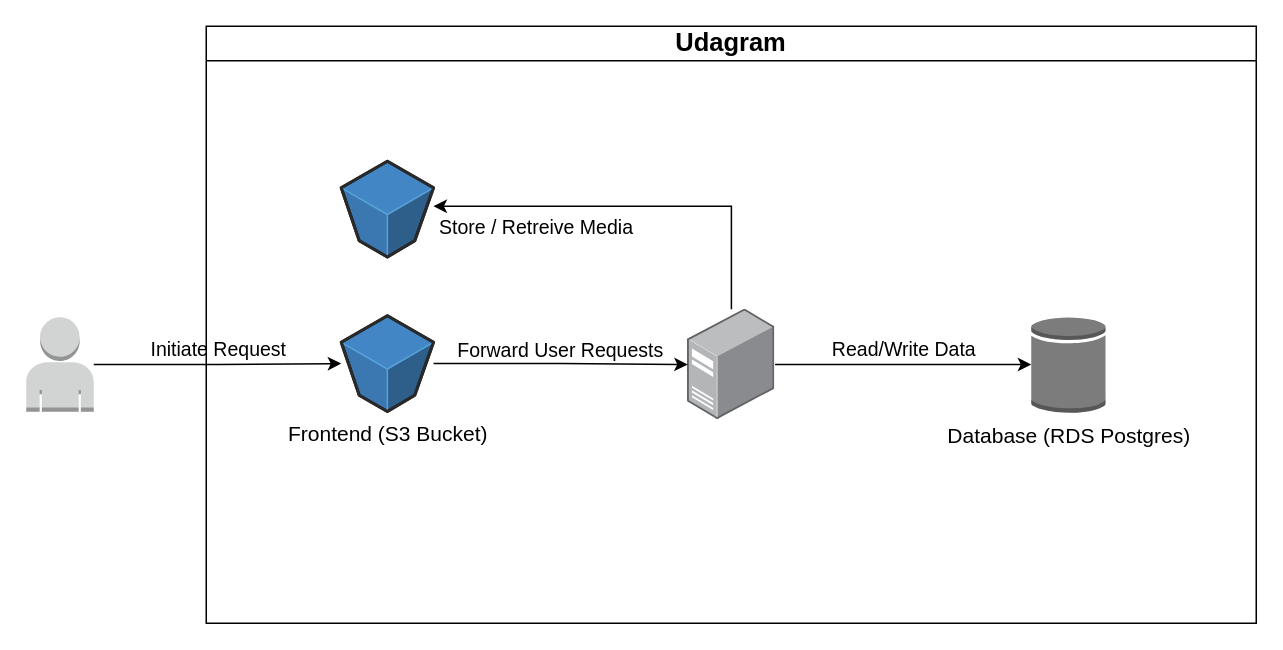
Image size: 1283x650. Some labels were removed from this diagram. The box of each missing label's shape, as (x1, y1, x2, y2) in pixels:
Backend (EB NodeJs Server): (687, 308, 774, 419)
Media Storage (S3 Bucket): (340, 160, 434, 257)
